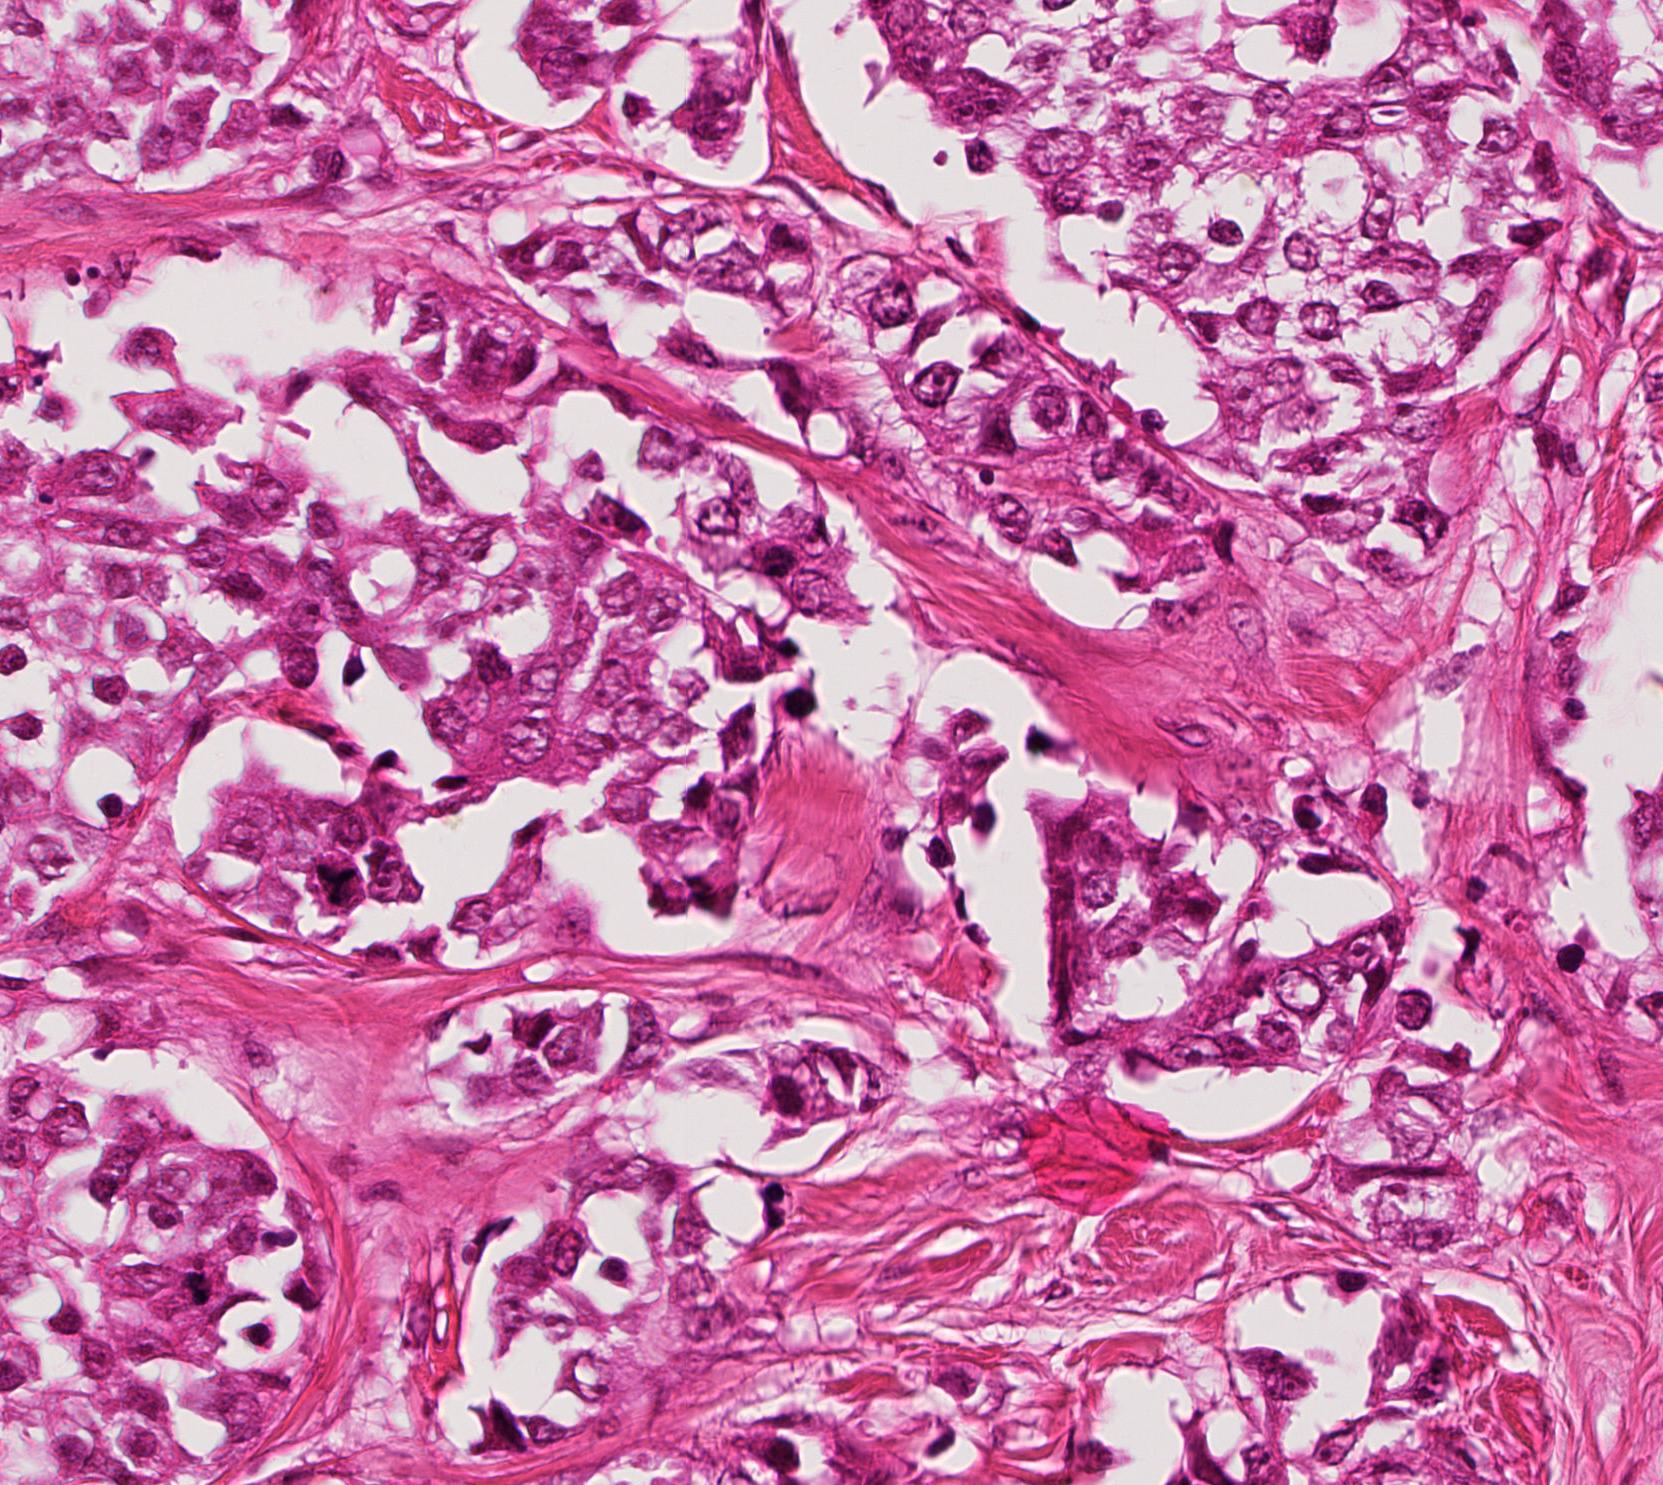mitosis: (295, 854, 356, 915)
